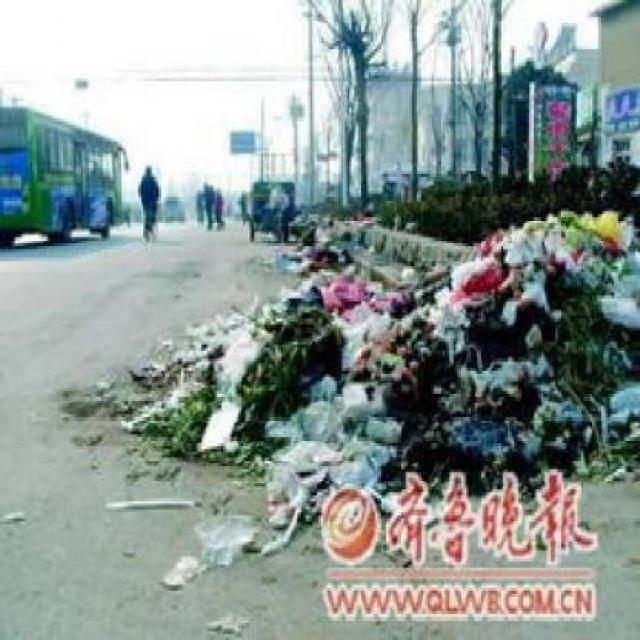garbage: (189, 311, 496, 458), (459, 220, 639, 443)
